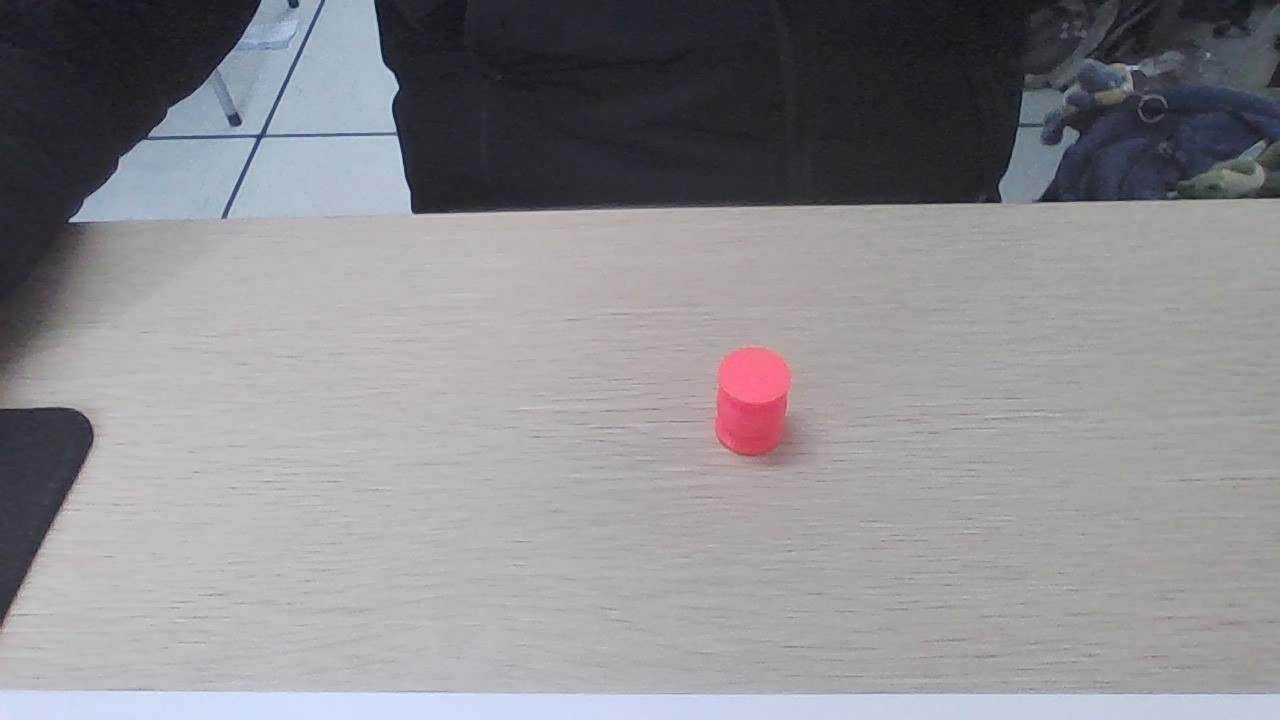KHS-plastic: (708, 346, 788, 455)
